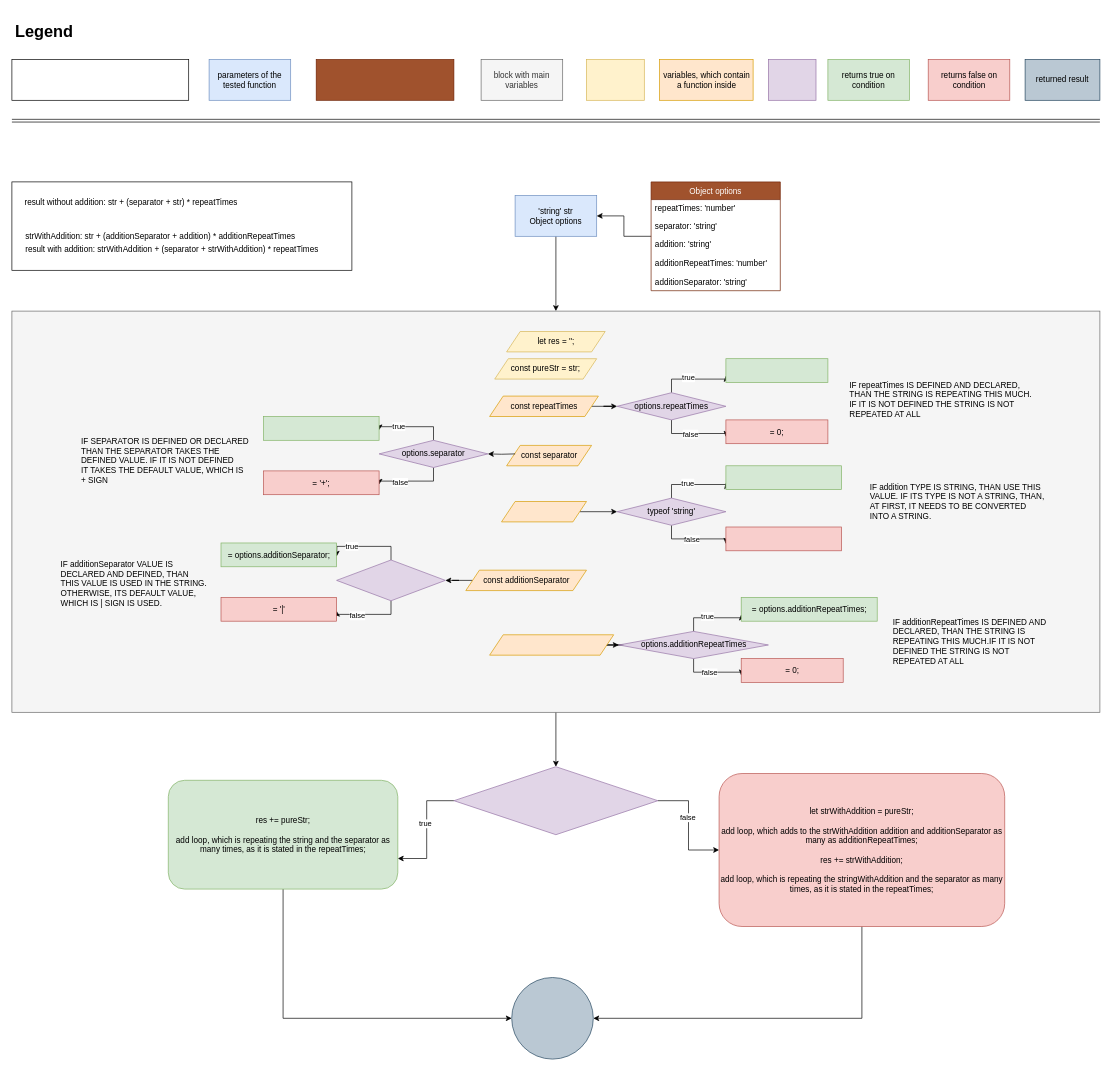
The diagram is 1112 pixels wide and 1071 high, and some of its shapes have lost their labels. The centre of each missing label's shape, as x and y in pixels:
"= options.addition.toString();" goes at pixel 783 538.
"= options.addition;" goes at pixel 783 477.
"= options.repeatTimes;" goes at pixel 776 370.
"= options.separator;" goes at pixel 321 428.
"condition" goes at pixel 792 79.
"const addition" goes at pixel 543 511.
"const aditionRepeatTimes" goes at pixel 551 644.
"contains the simple logic of the result, which should be returned at the end" goes at pixel 100 79.
"Object, which is entering the function as the second parameter" goes at pixel 385 79.
"options.addition" goes at pixel 555 800.
"options.additionSeparator" goes at pixel 390 580.
"return res;" goes at pixel 552 1018.
"variables" goes at pixel 615 79.
